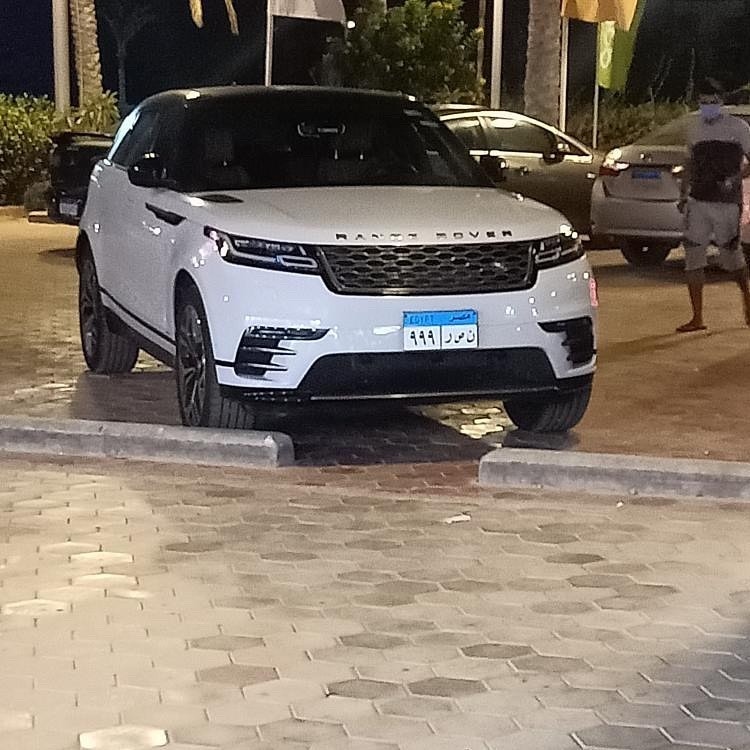carpl: (404, 309, 478, 347)
